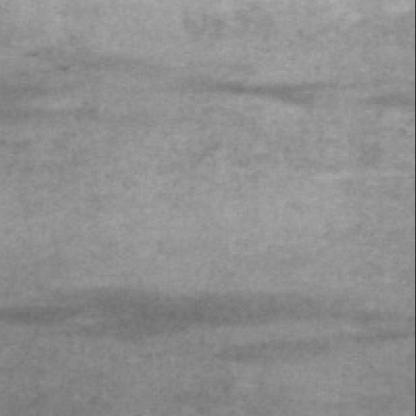inclusion: (27, 289, 410, 356), (181, 71, 325, 114)
